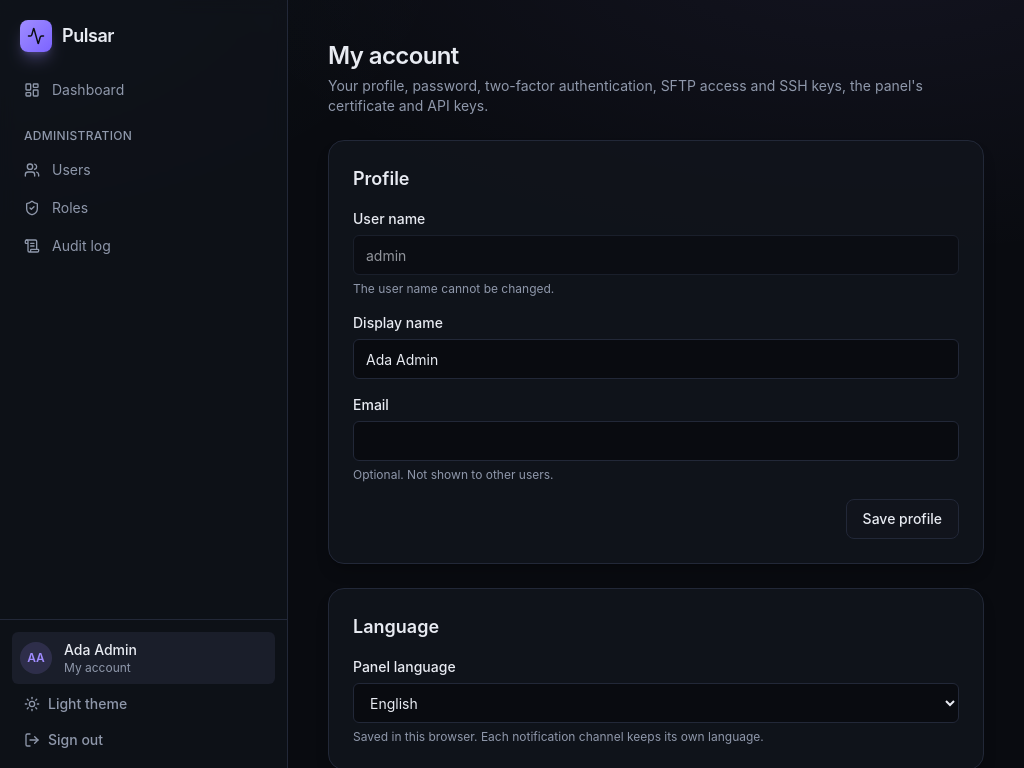
Test: signing out › signs out and goes to the sign-in page
What coordinates should you click on to do the following:
click the button "Sign out"
I would click on:
 (76, 740)
Its box is [12,724,275,756].
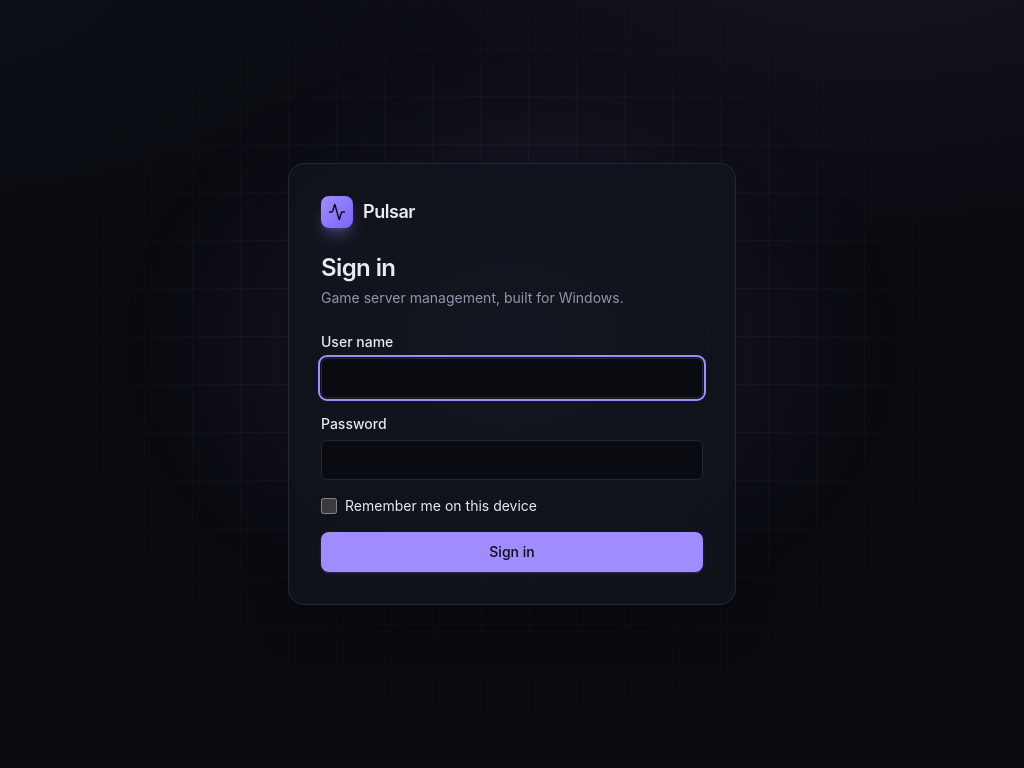
Now the heading "Sign in" is shown, box [321,253,395,282]
